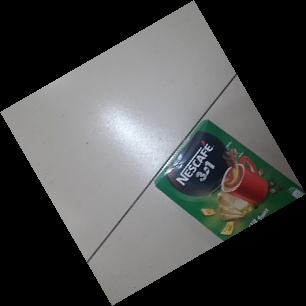Nes Rang: (153, 118, 306, 265)
